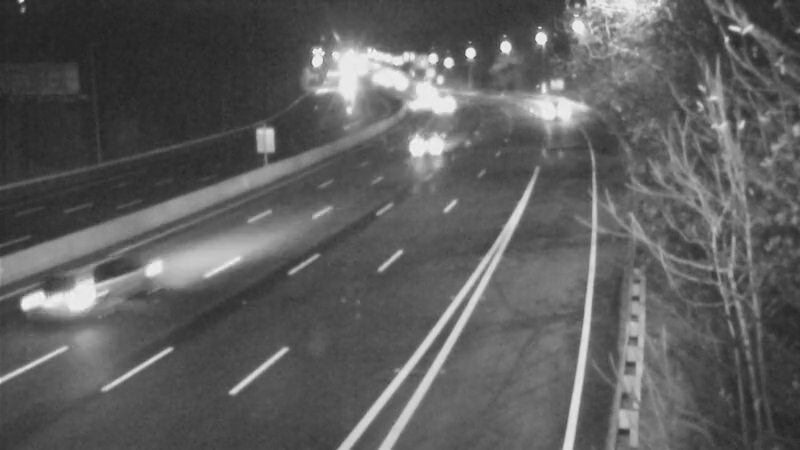vehicle: (18, 259, 98, 339), (405, 68, 455, 118), (419, 83, 469, 133), (523, 85, 573, 135), (392, 80, 442, 130), (397, 121, 447, 171)
